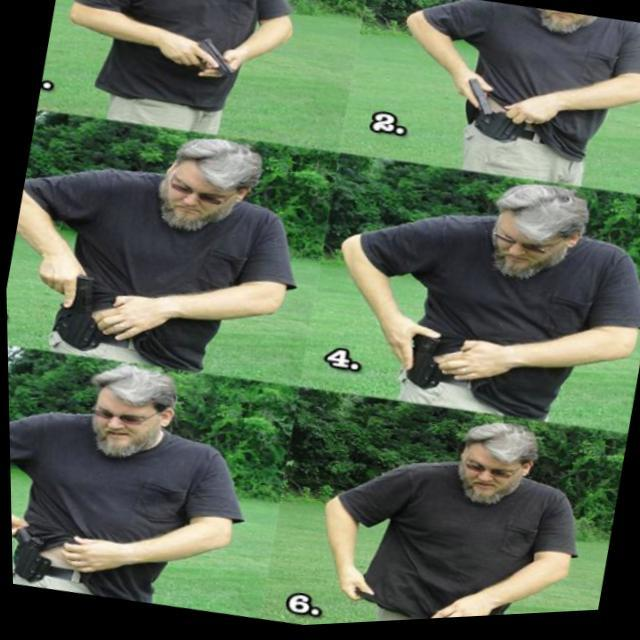weapon: (29, 256, 106, 326), (396, 321, 469, 393), (9, 510, 57, 588), (446, 73, 506, 134), (188, 34, 240, 84)
